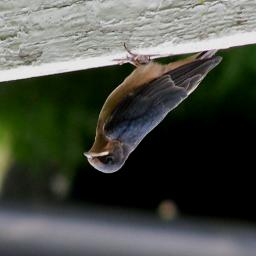Swallow: (83, 42, 224, 174)
